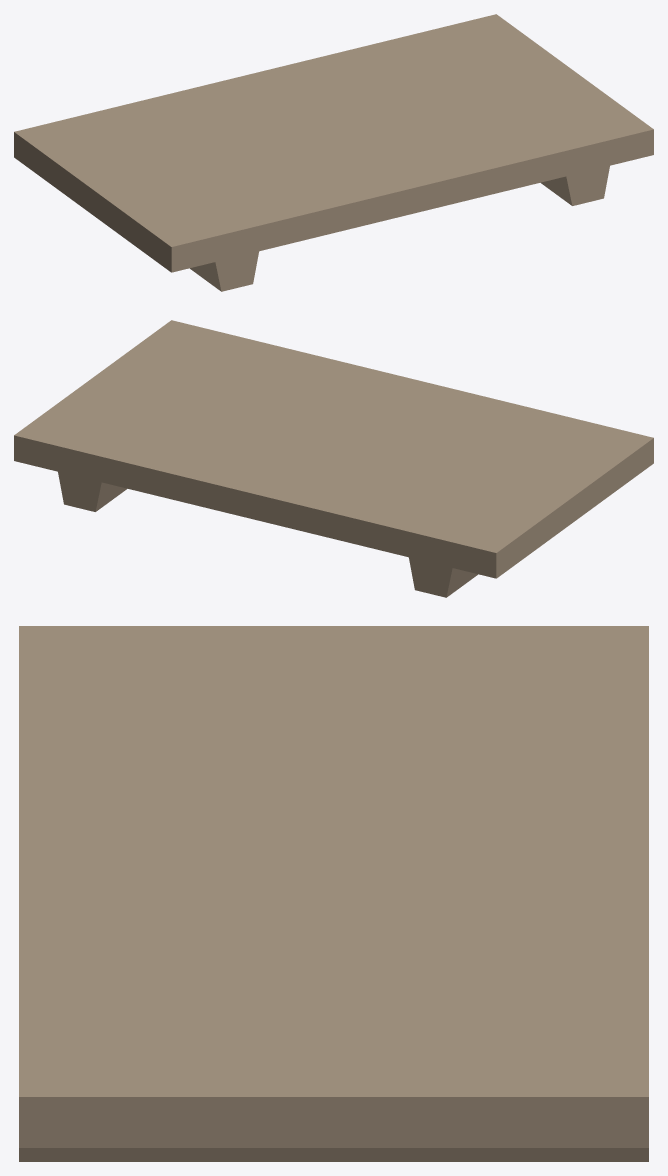
File: cuttingboard.fbx
3 renders of one model, top to bottom at view 1: azimuth 30°, elevation 25°; view 2: azimuth 150°, elevation 25°; view 3: azimuth 270°, elevation 25°, orthographic. The views are drawn at different scales.
Parts seen in each view (by area): view 1: cuttingboard; view 2: cuttingboard; view 3: cuttingboard.
Part boxes in pixels (left/top/right/bottom): cuttingboard: left=14, top=14, right=653, bottom=291; cuttingboard: left=14, top=320, right=653, bottom=597; cuttingboard: left=19, top=626, right=648, bottom=1161.
Size of the model in its own units: 8 by 0.9018 by 4.52.
